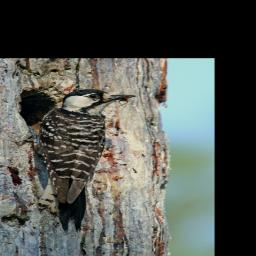Woodpecker: (12, 88, 137, 236)
